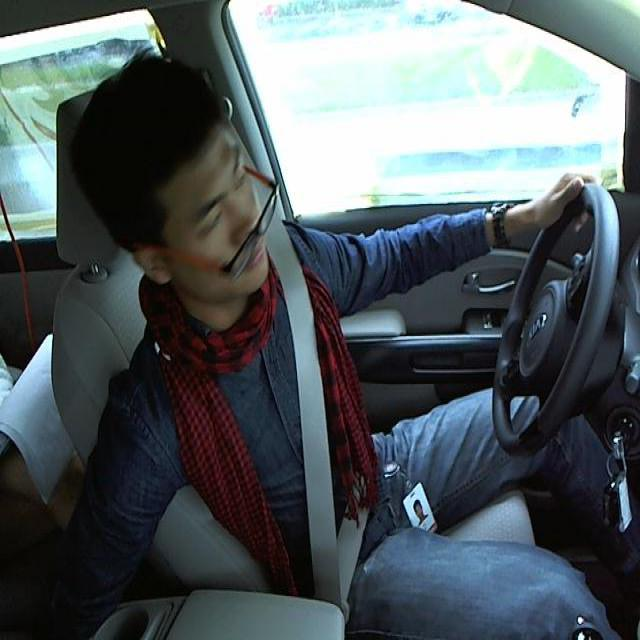seatbelt: (263, 236, 348, 588)
